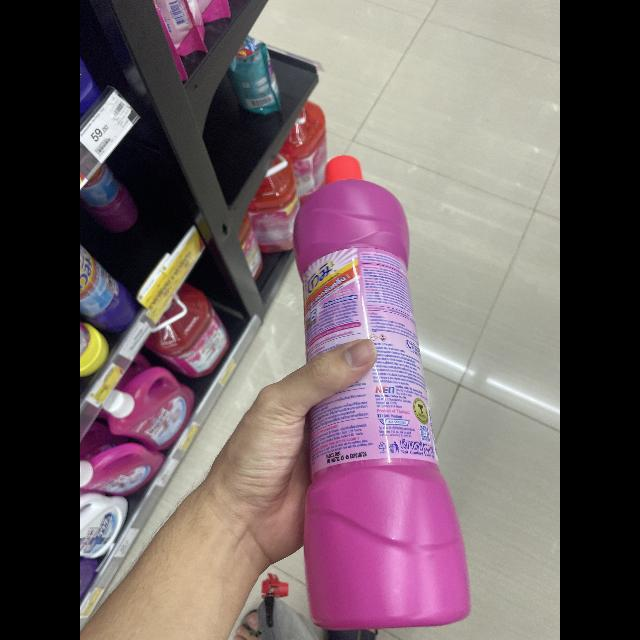chemical_plastic_bottle: (289, 145, 477, 630)
